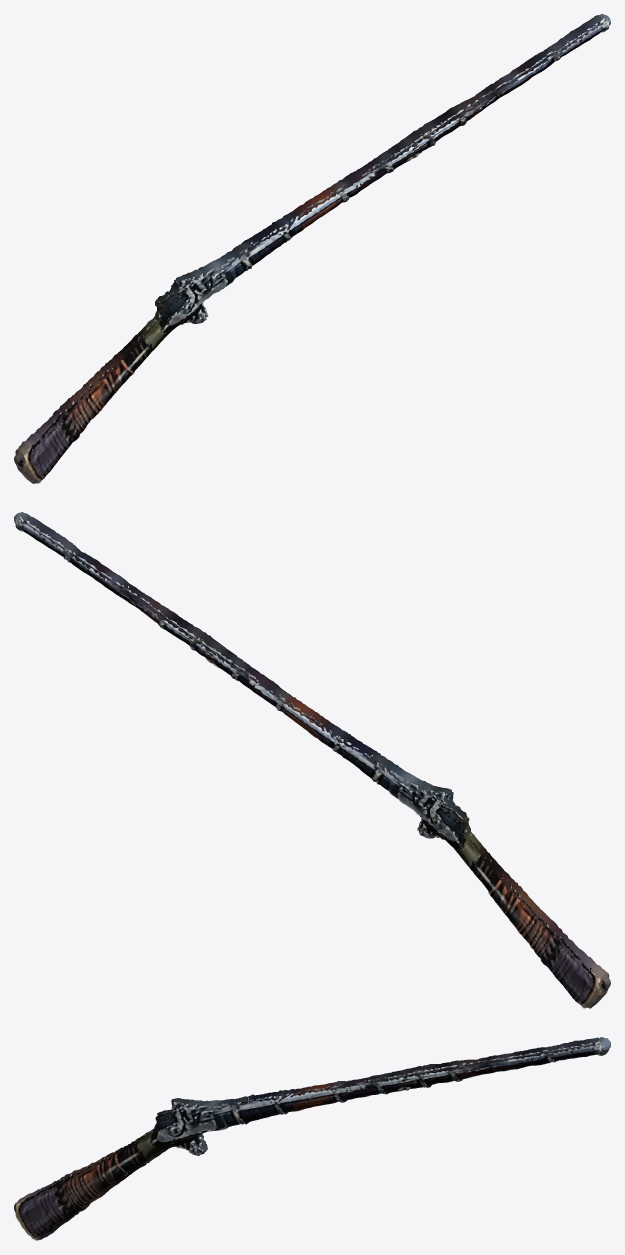
The model's file is kfl-2213.glb.
3 renders of one model, top to bottom at view 1: azimuth 30°, elevation 25°; view 2: azimuth 150°, elevation 25°; view 3: azimuth 330°, elevation 25°, orthographic. The views are drawn at different scales.
Visible parts, largest first — view 1: kfl-2213; view 2: kfl-2213; view 3: kfl-2213.
Part boxes in pixels (bbox=[...]): kfl-2213: bbox=[14, 14, 610, 483]; kfl-2213: bbox=[14, 512, 610, 1008]; kfl-2213: bbox=[14, 1037, 610, 1240].
Size of the model in its own units: 0.9873 by 0.5421 by 0.0588.
Materials: 4 (4 with a texture image).
